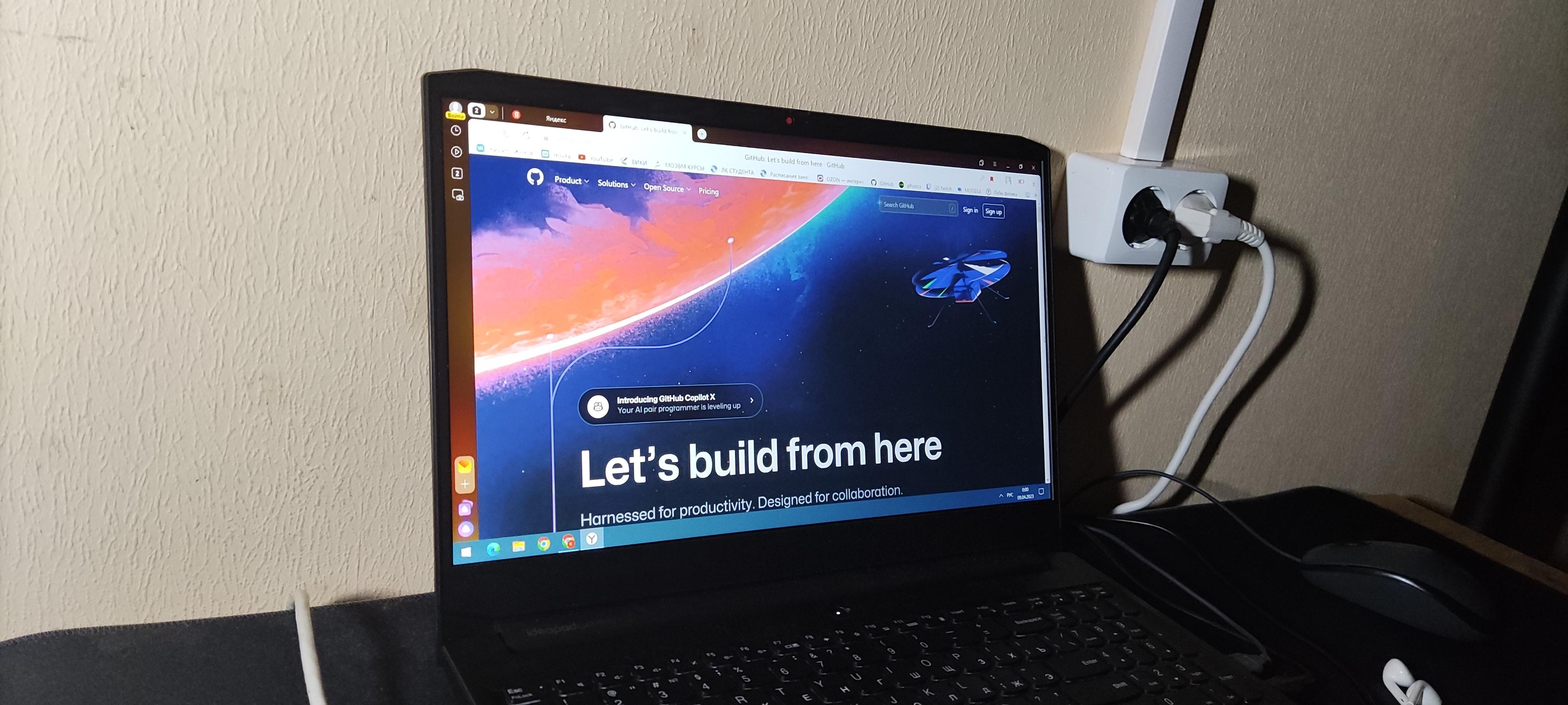monitor: (417, 61, 1098, 597)
